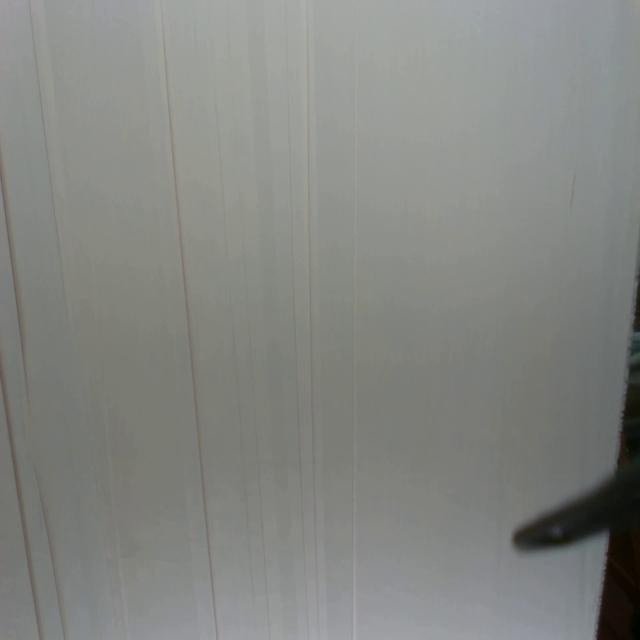crease: (158, 0, 220, 640), (227, 0, 272, 638), (284, 0, 322, 640), (30, 0, 67, 315), (0, 362, 41, 640), (350, 0, 362, 640), (0, 166, 31, 408), (100, 394, 130, 636), (35, 460, 65, 640)
